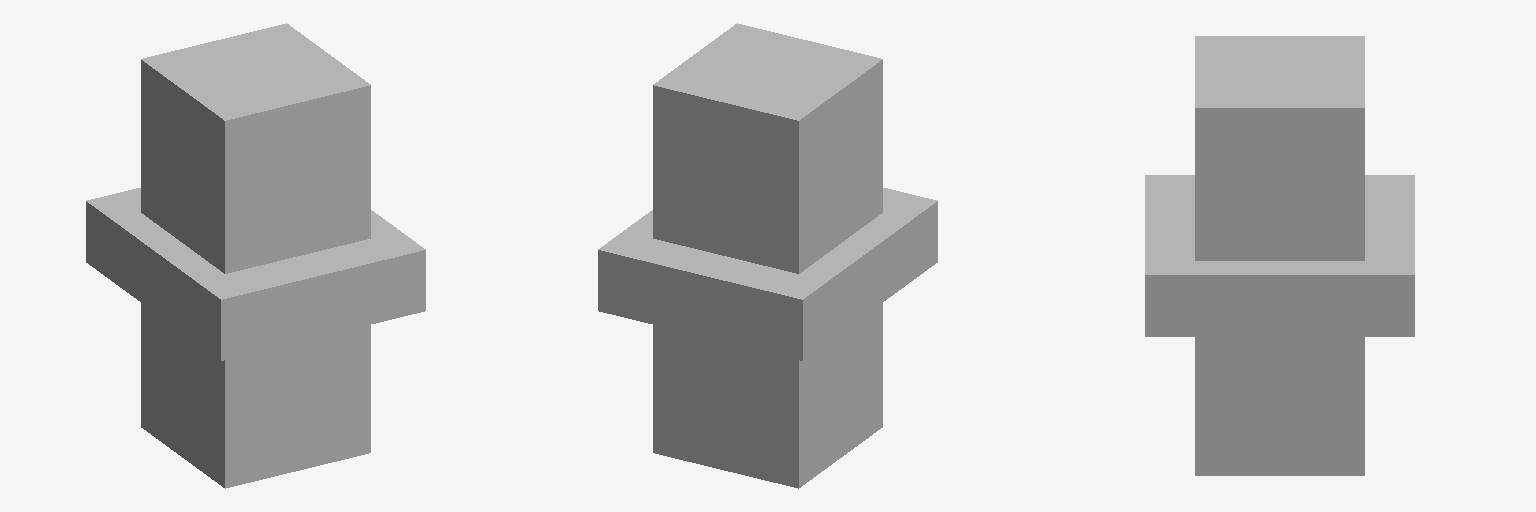
The model's file is single_coil.obj.
The picture shows the model from 3 angles: view 1: azimuth 30°, elevation 25°; view 2: azimuth 150°, elevation 25°; view 3: azimuth 270°, elevation 25°; orthographic projection.
Visible parts, largest first — view 1: Rotor1Phase_Cube.058; view 2: Rotor1Phase_Cube.058; view 3: Rotor1Phase_Cube.058.
Part boxes in pixels (left/top/right/bottom): Rotor1Phase_Cube.058: left=86, top=23, right=425, bottom=488; Rotor1Phase_Cube.058: left=598, top=23, right=937, bottom=488; Rotor1Phase_Cube.058: left=1145, top=36, right=1414, bottom=475.
Size of the model in its own units: 0.875 by 1.5 by 1.